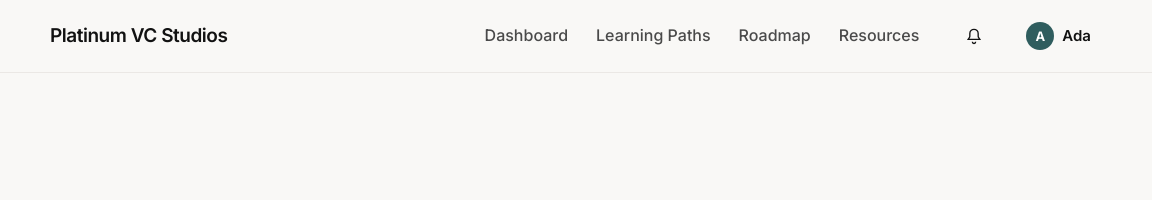
Test: Nav › shows the signed-in app nav and user menu when a real session with a user exists
Expected: the link "Dashboard" is shown, [485, 23, 568, 49]
Expected: the link "Learning Paths" is shown, [596, 23, 711, 49]
What coordinates should you click on to do the following:
click the button "A Ada"
I would click on:
 (1059, 36)
Its box is [1015, 15, 1102, 57].
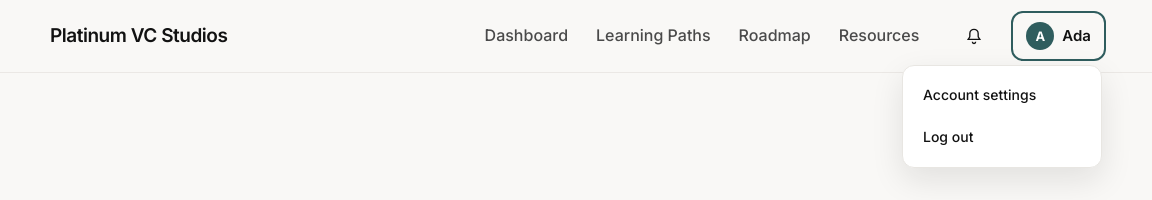
Now the menu item "Log out" is shown, box [911, 116, 1093, 159]
